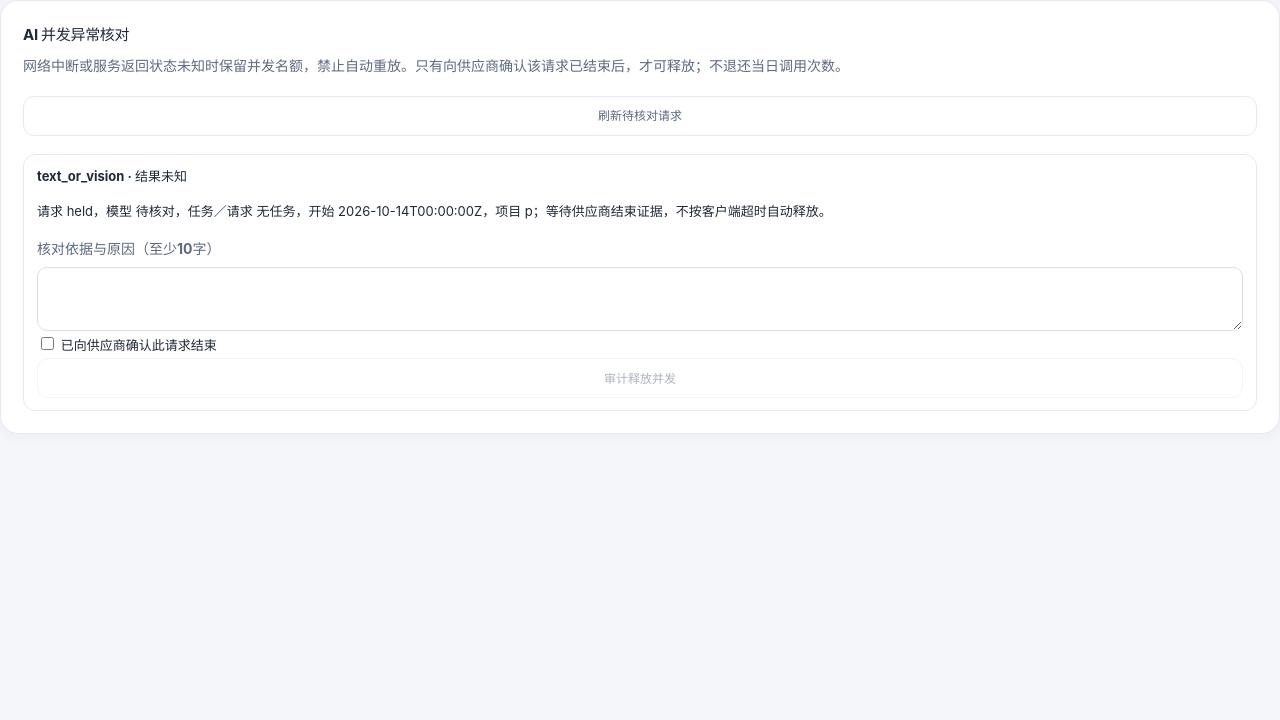
Test: requires a supplier acknowledgement and reason before audited release and sends no operator token
expect the button "审计释放并发" is disabled: met, box [37,358,1243,398]
Type "已核实供应商侧请求确已结束" into the text box labelled "核对依据与原因（至少10字）" at (640, 299), box [37,267,1243,331]
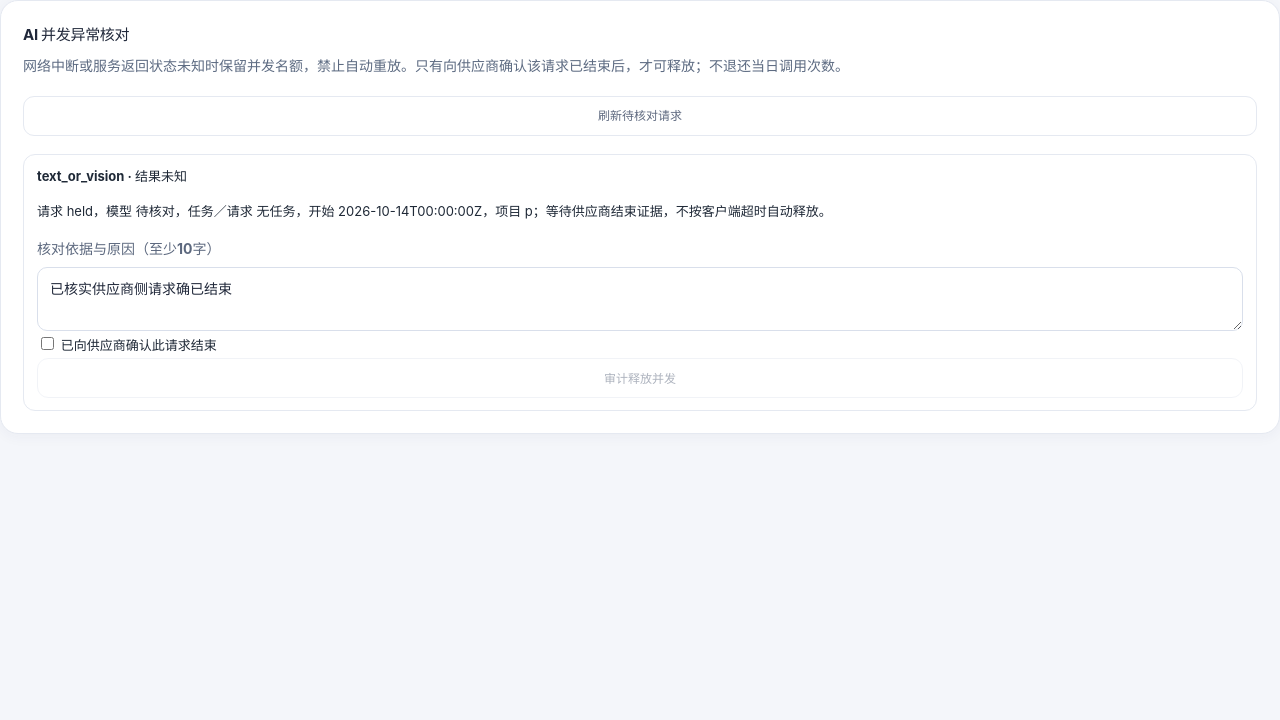
expect the button "审计释放并发" is disabled: met, box [37,358,1243,398]
Click the checkbox labelled "已向供应商确认此请求结束" at (48, 343), box [41,337,54,350]
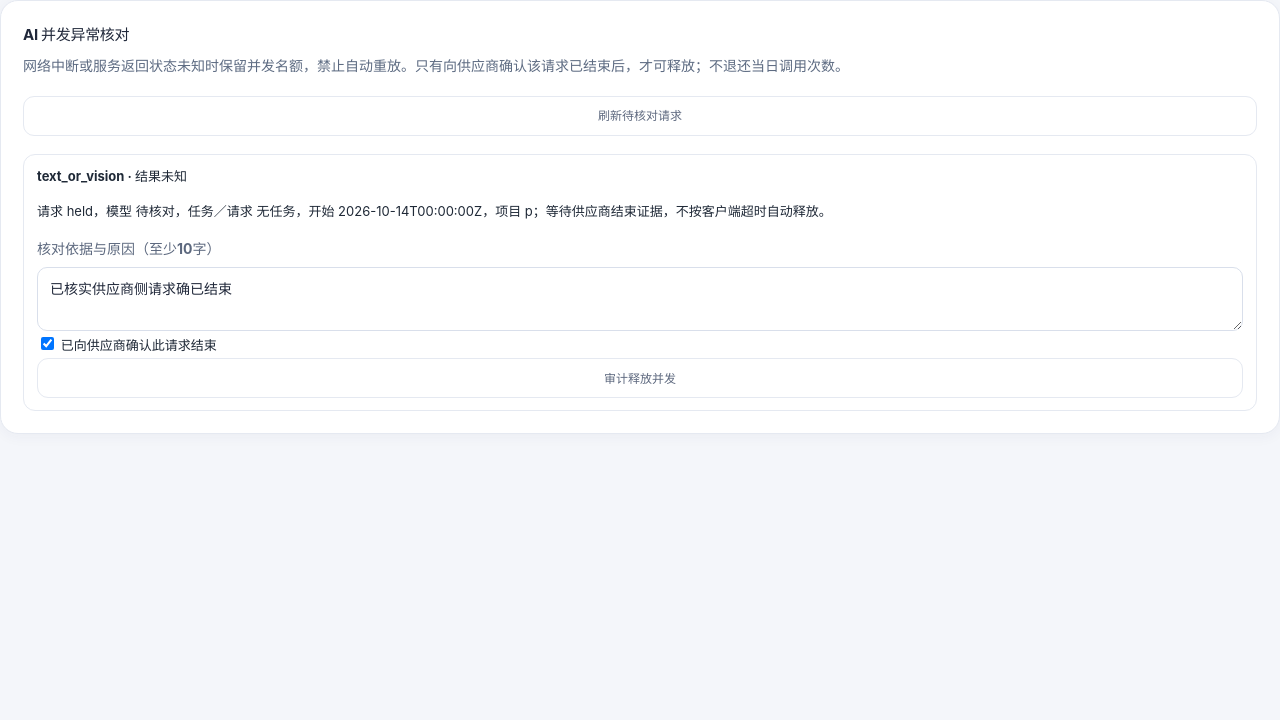
Click the button "审计释放并发" at (640, 378), box [37,358,1243,398]
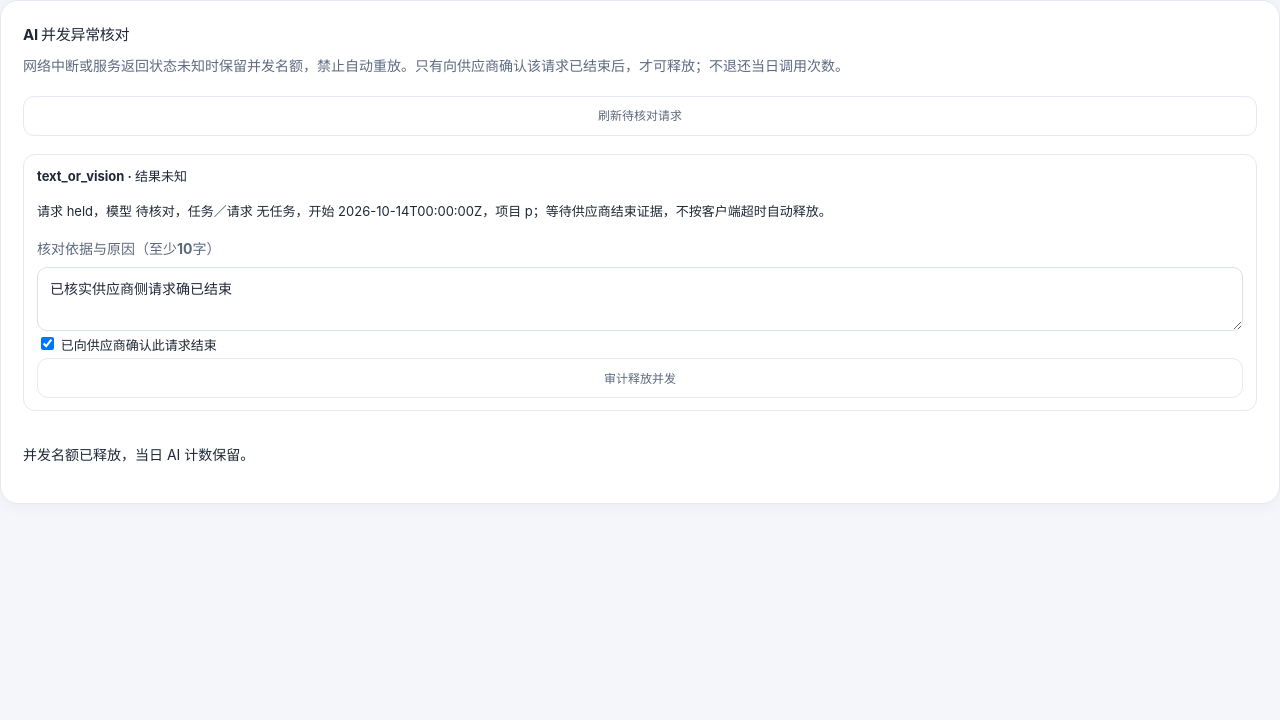
expect the text "并发名额已释放，当日 AI 计数保留。" is shown: met, box [23,446,254,463]
